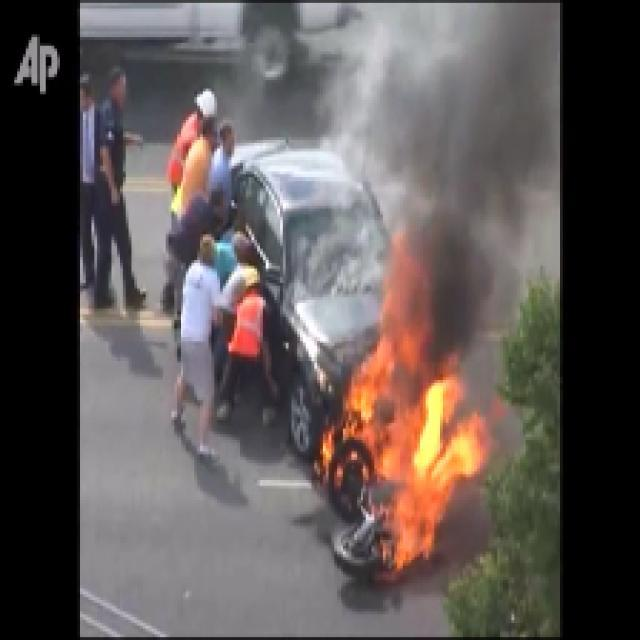Fire: (348, 350, 481, 562)
Smoke: (376, 21, 536, 342)
